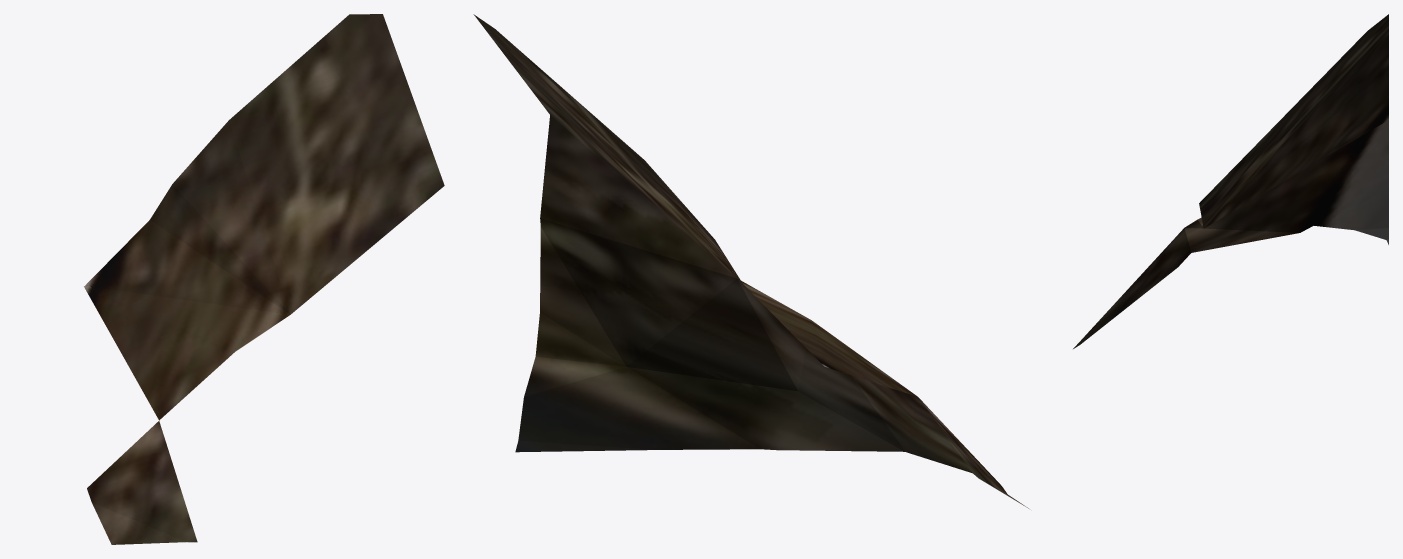
3 renders of one model, left to right at view 1: azimuth 30°, elevation 25°; view 2: azimuth 150°, elevation 25°; view 3: azimuth 270°, elevation 25°, orthographic. The views are drawn at different scales.
Size of the model in its own units: 0.8373 by 0.8373 by 0.4842.
2 materials, 2 textured.
